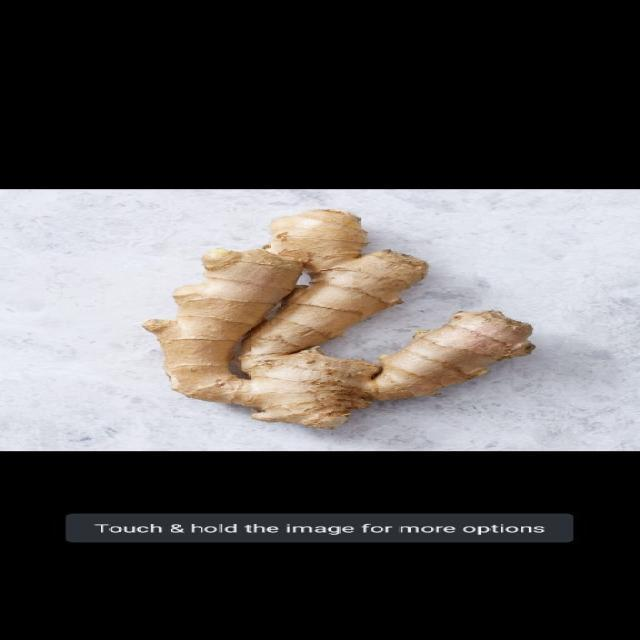ginger: (174, 218, 537, 418)
